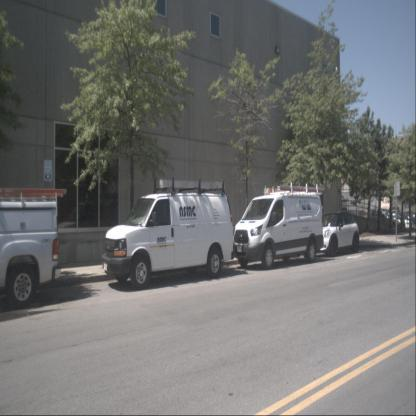vehicle-car: (101, 192, 235, 290), (233, 191, 324, 270), (55, 200, 127, 254), (312, 210, 360, 256), (368, 208, 406, 233), (381, 212, 415, 232)
vehicle-truck: (0, 187, 62, 308)
